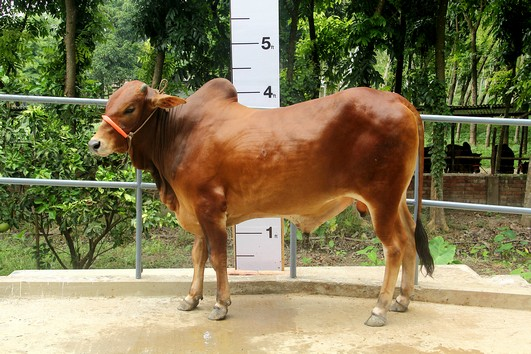cow: (81, 71, 441, 332)
